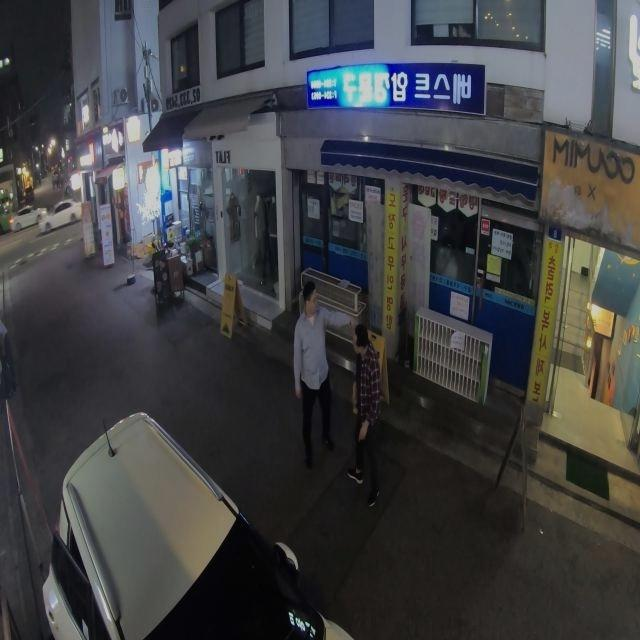fight: (293, 280, 353, 466), (348, 324, 385, 509)
